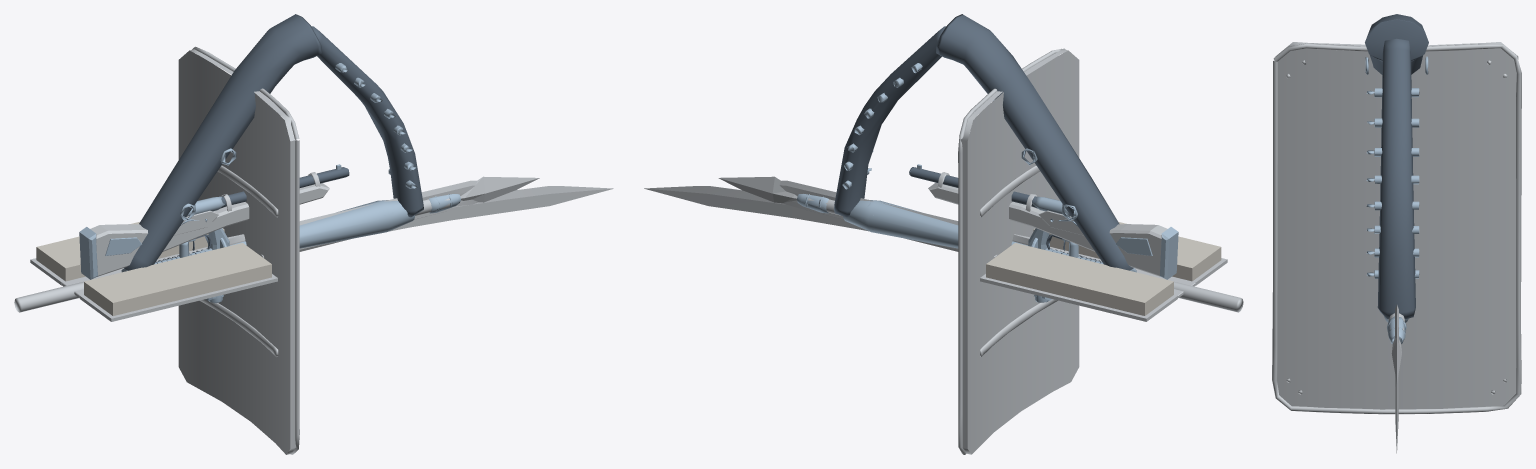
Rendered from set-items.glb.
The picture shows the model from 3 angles, left to right: view 1: azimuth 30°, elevation 25°; view 2: azimuth 150°, elevation 25°; view 3: azimuth 270°, elevation 25°; orthographic projection. The views are drawn at different scales.
Parts seen in each view (by area): view 1: shield, harp, tome, rifle, katana, spear, sword; view 2: shield, harp, tome, rifle, katana, spear, sword; view 3: shield, harp, spear.
Part boxes in pixels (x1=…): shield: x1=178, y1=46, x2=299, y2=454; harp: x1=121, y1=14, x2=423, y2=272; tome: x1=30, y1=222, x2=277, y2=321; rifle: x1=79, y1=164, x2=349, y2=279; katana: x1=208, y1=186, x2=613, y2=249; spear: x1=14, y1=176, x2=539, y2=312; sword: x1=206, y1=180, x2=477, y2=303; shield: x1=958, y1=48, x2=1079, y2=454; harp: x1=834, y1=14, x2=1136, y2=272; tome: x1=980, y1=222, x2=1227, y2=321; rifle: x1=909, y1=164, x2=1178, y2=279; katana: x1=644, y1=186, x2=1049, y2=249; spear: x1=718, y1=176, x2=1243, y2=312; sword: x1=779, y1=180, x2=1051, y2=302; shield: x1=1272, y1=42, x2=1521, y2=414; harp: x1=1365, y1=14, x2=1428, y2=322; spear: x1=1387, y1=313, x2=1406, y2=383.
Bounding box in the file's own units: 7.65 × 4.76 × 2.55.
